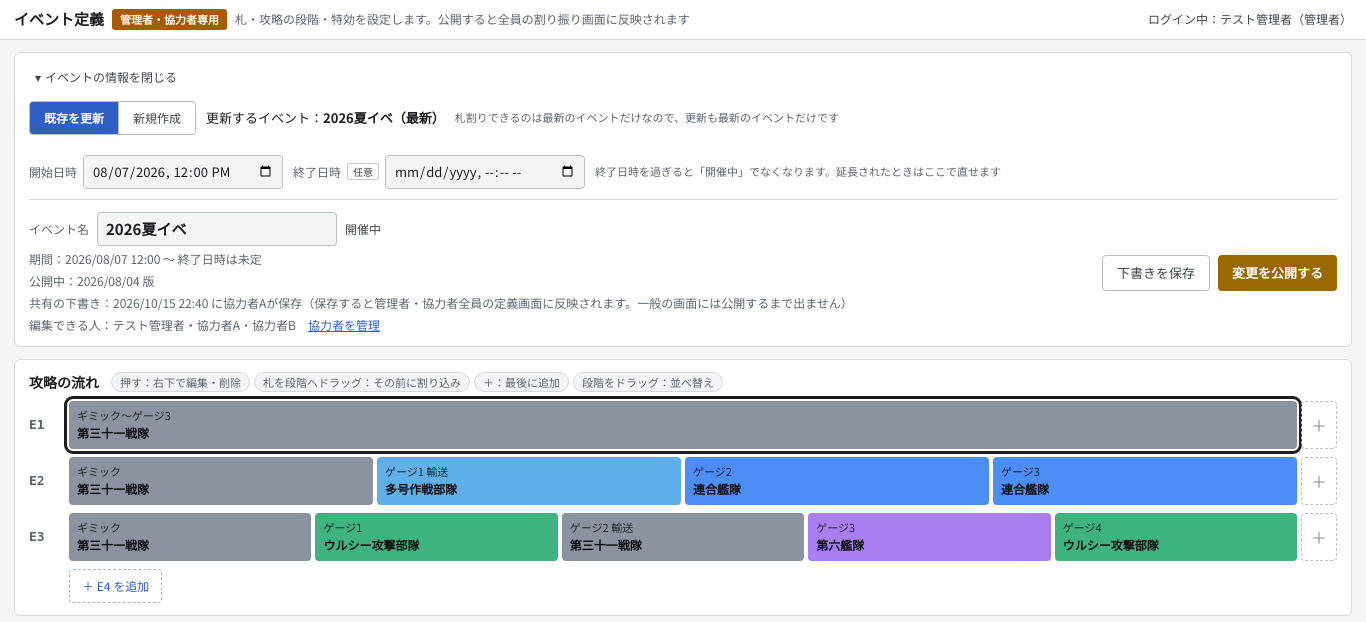
Test case: イベント定義の画面（PlanEditor）：特効グループの国籍（v1.1） › 国籍を選ぶ欄（「＋ 国籍」） › 「＋ 国籍」で国籍を選ぶ欄を開き、12 か国のチェックボックスを表示名で、日本・アメリカ・イギリス…タイの順に並べる
The width and height of the screenshot is (1366, 622).
Expected: the element "攻略の流れ" is shown, [14, 358, 1352, 616]
Click the button "ゲージ3 連合艦隊": (1020, 470) [993, 456, 1297, 504]
(page scrolled)
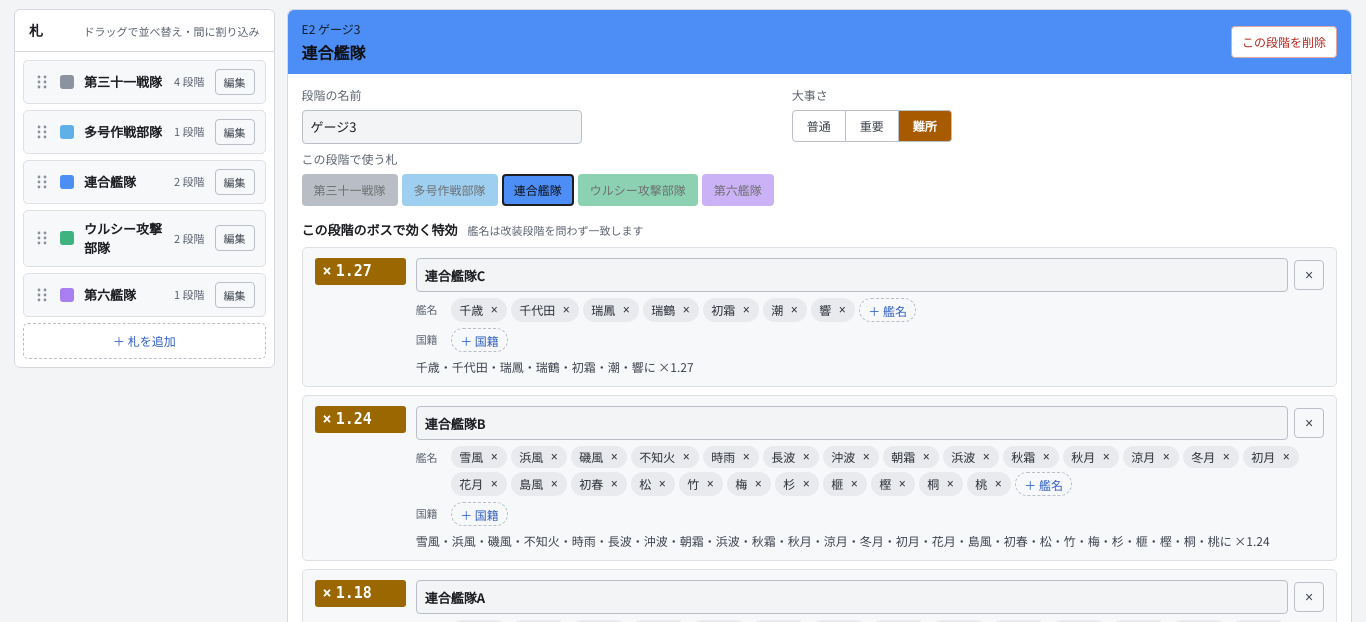
Click the 1st button "＋ 国籍": (479, 340) [451, 328, 508, 352]
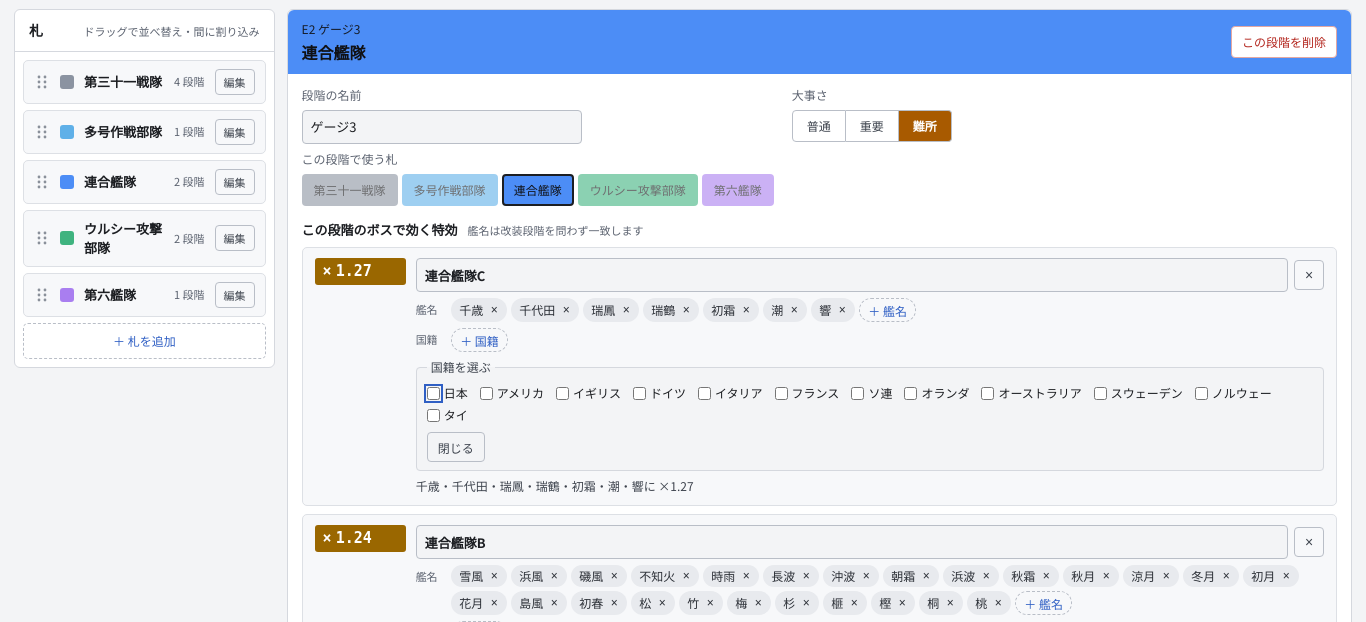
Result: the number of checkboxes is 12
Result: the checkbox labelled "日本" is not checked at [427, 386, 440, 400]
Result: the checkbox labelled "アメリカ" is not checked at [480, 386, 493, 400]
